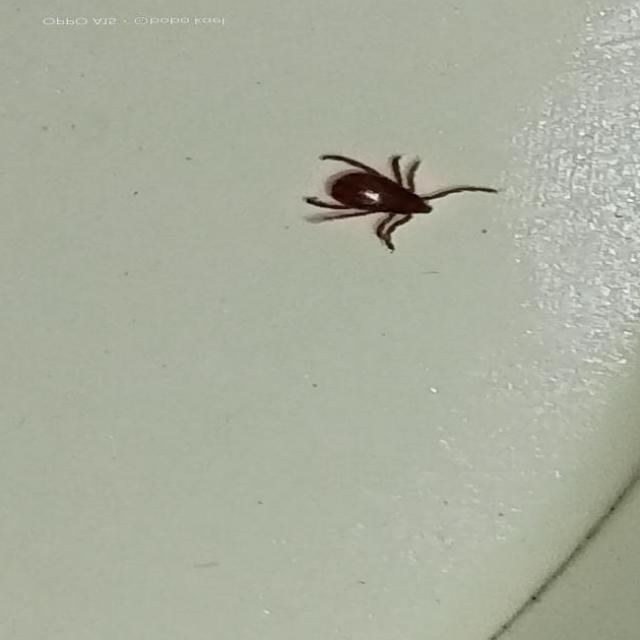Rhipicephalus Sanguineus-M: (306, 151, 501, 246)
